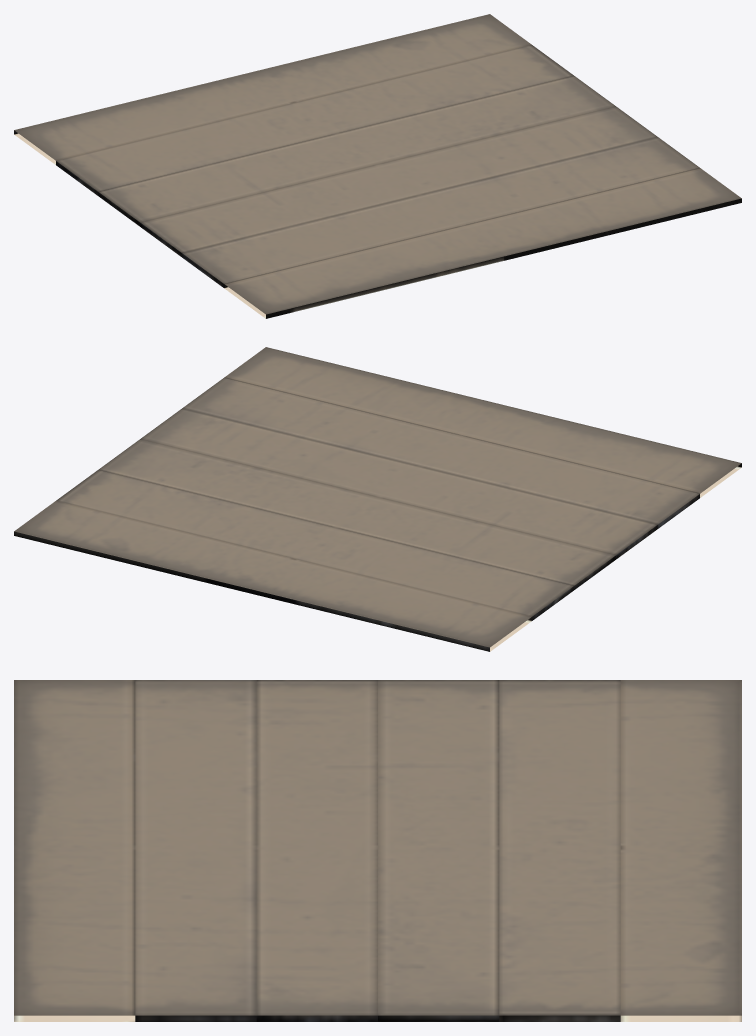
The model's file is FordF700BoxRollUpDoor_WorldItem.fbx.
3 renders of one model, top to bottom at view 1: azimuth 30°, elevation 25°; view 2: azimuth 150°, elevation 25°; view 3: azimuth 270°, elevation 25°, orthographic. The views are drawn at different scales.
Visible parts, largest first — view 1: TrunkDoor_obj; view 2: TrunkDoor_obj; view 3: TrunkDoor_obj.
Boxes of the visible parts, x1,y1,x2,y2 form: TrunkDoor_obj: (14,14,741,318); TrunkDoor_obj: (14,347,741,651); TrunkDoor_obj: (14,680,741,1021).
Size of the model in its own units: 2.79 by 0.0245 by 2.56.
